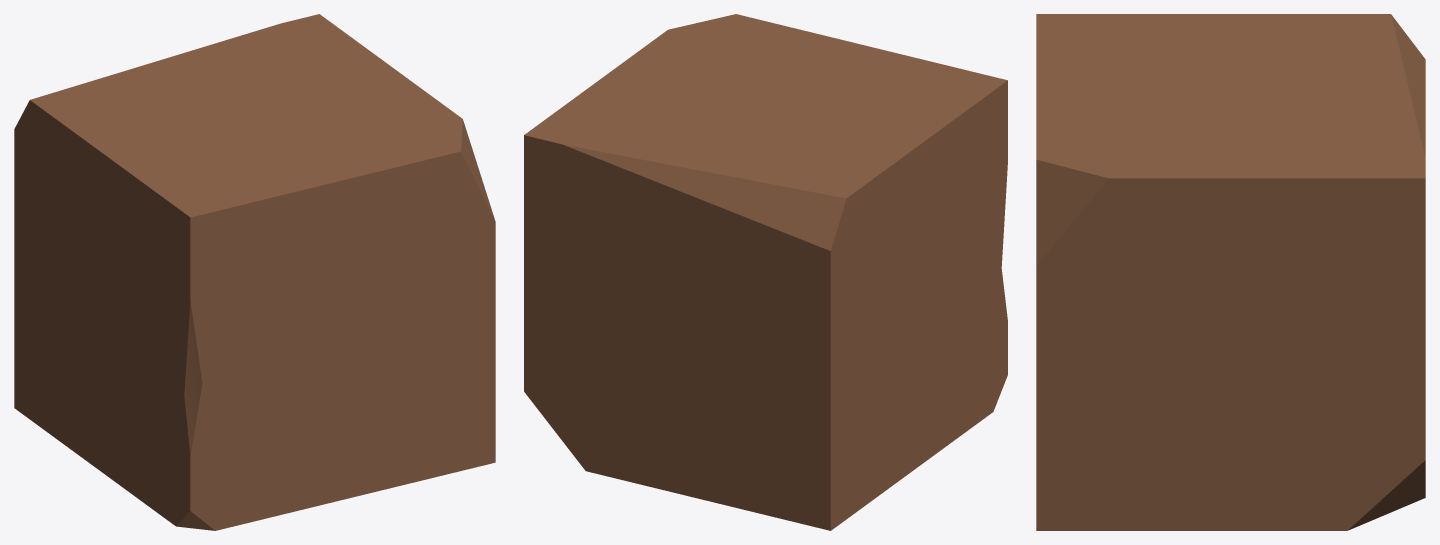
The model's file is Monument_006.FBX.
3 renders of one model, left to right at view 1: azimuth 30°, elevation 25°; view 2: azimuth 150°, elevation 25°; view 3: azimuth 270°, elevation 25°, orthographic. The views are drawn at different scales.
Parts seen in each view (by area): view 1: Monument_006; view 2: Monument_006; view 3: Monument_006.
Part boxes in pixels (left/top/right/bottom): Monument_006: left=14, top=14, right=495, bottom=530; Monument_006: left=524, top=14, right=1007, bottom=530; Monument_006: left=1036, top=14, right=1425, bottom=530.
Bounding box in the file's own units: 19.69 × 19.69 × 19.69.
